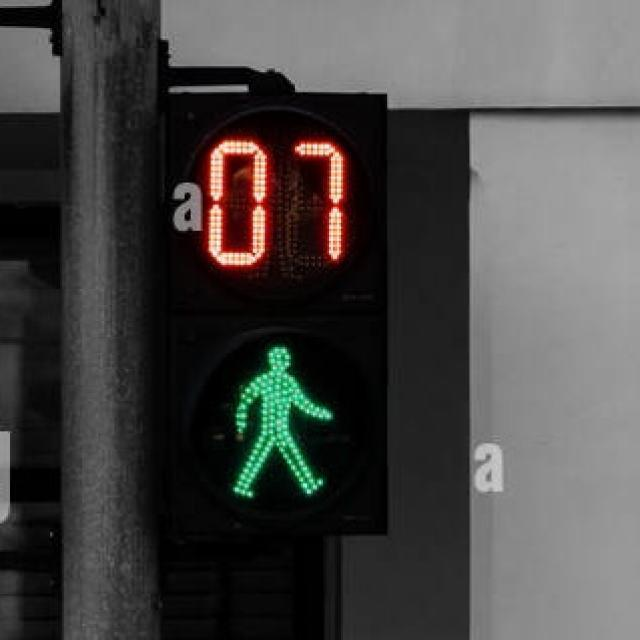geen-crossing: (216, 327, 332, 508)
